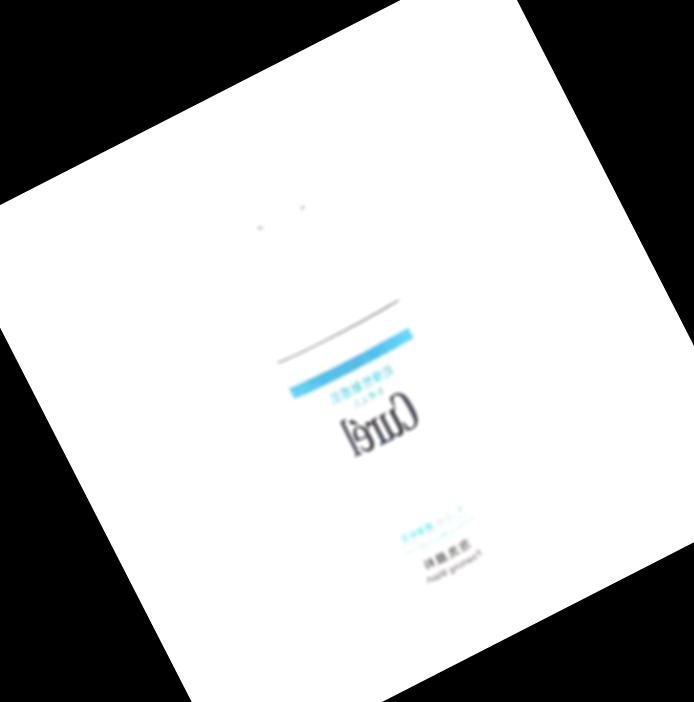cosmetic: (143, 82, 581, 665)
